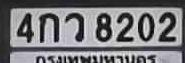0: (137, 12, 153, 40)
2: (158, 11, 175, 41), (116, 11, 132, 41)
4: (16, 12, 33, 42)
8: (95, 12, 111, 41)
A01: (38, 12, 58, 42)
A37: (64, 12, 83, 41)
